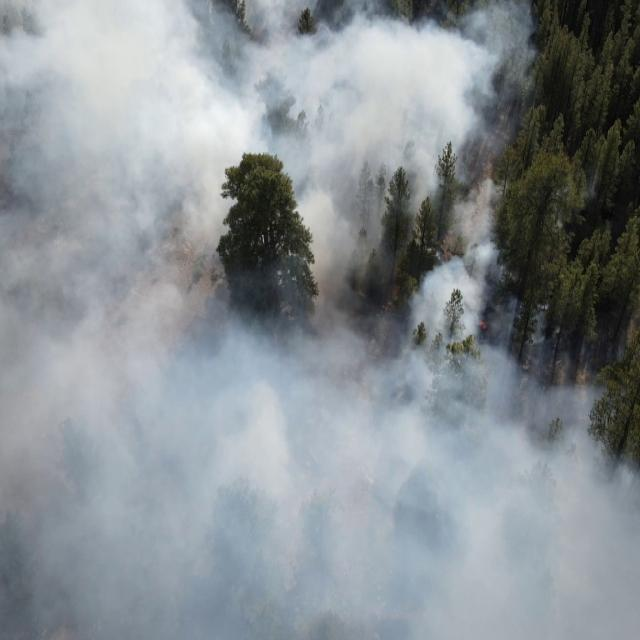fire: (476, 316, 490, 332)
smoke: (222, 254, 640, 640), (0, 0, 222, 640), (223, 0, 536, 154), (282, 156, 598, 254), (222, 194, 240, 237), (222, 153, 244, 168)
